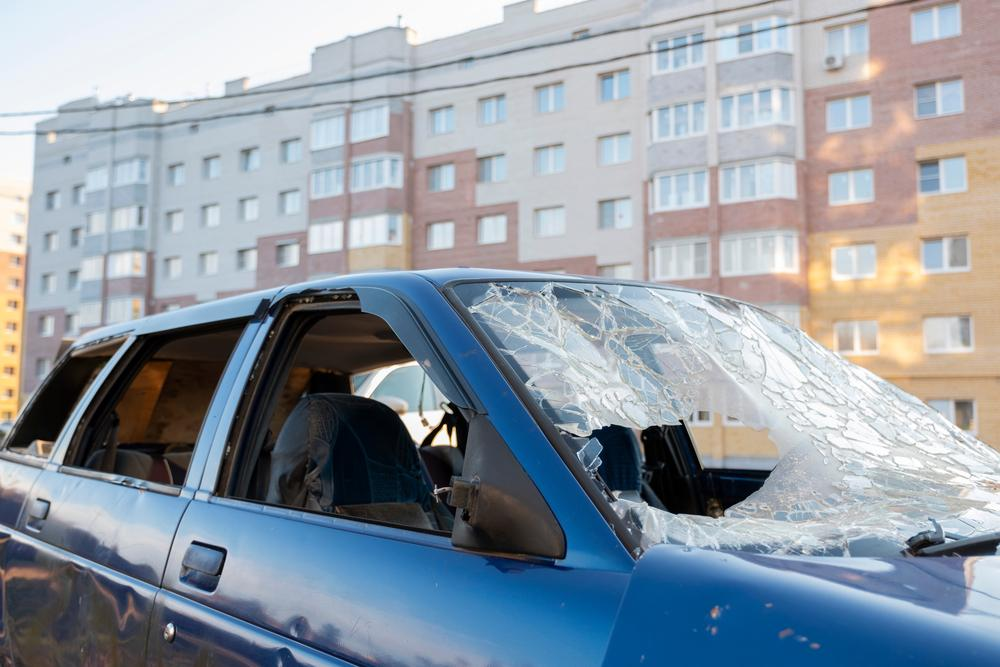dent: (285, 615, 312, 639), (272, 646, 292, 667)
glass shatter: (445, 279, 1000, 561)
